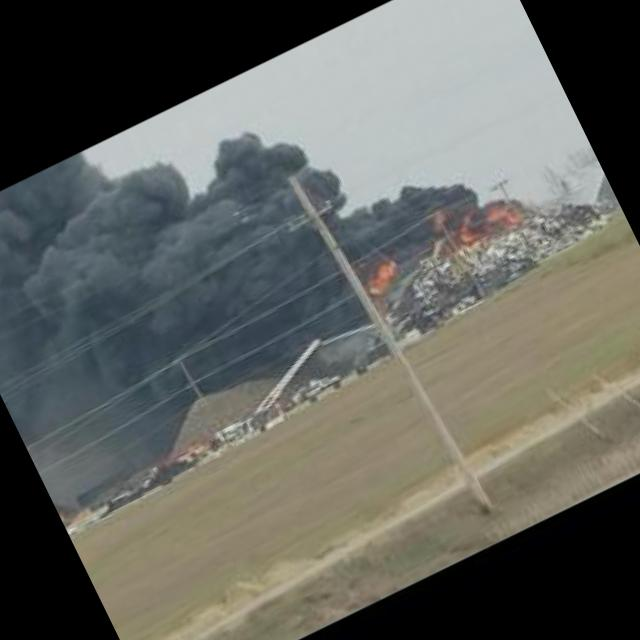fire: (441, 178, 518, 250), (347, 242, 414, 309)
smoke: (0, 15, 456, 438)
